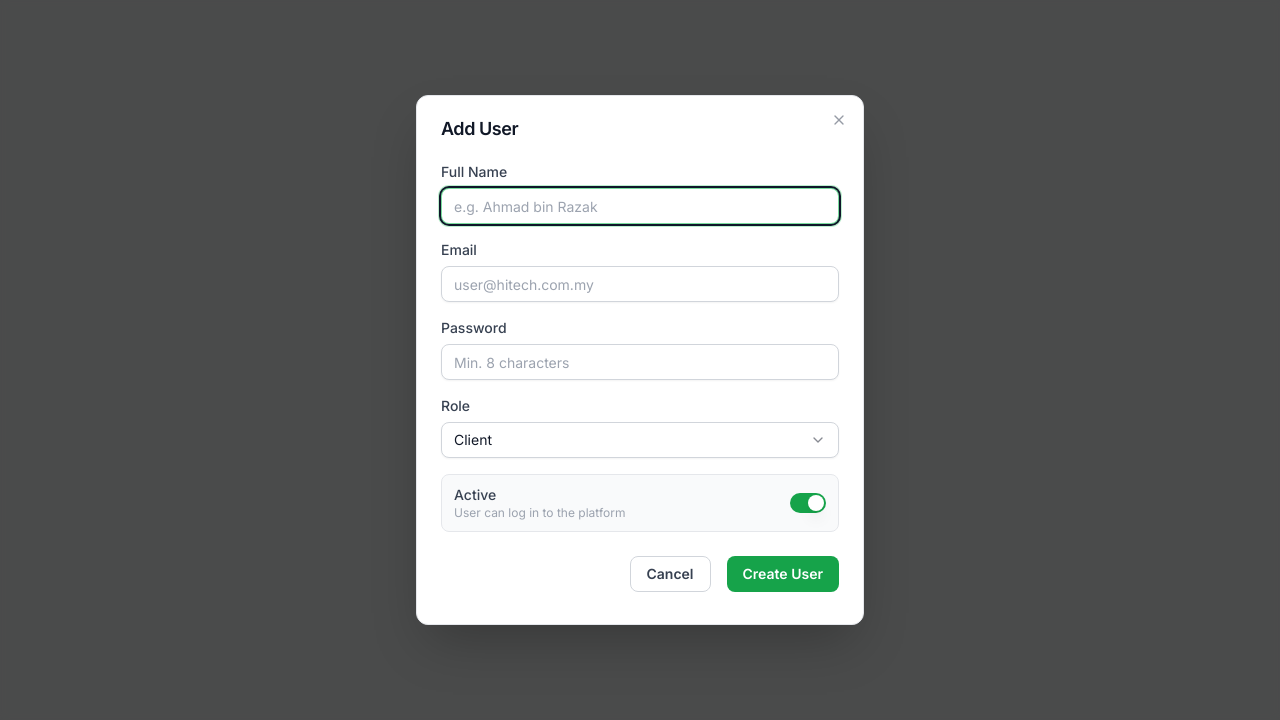
Test case: Client-side validation › shows validation error and does not submit when Full Name is empty
The image size is (1280, 720).
Click the button "Create User". click: (783, 574)
box: [726, 556, 839, 592]
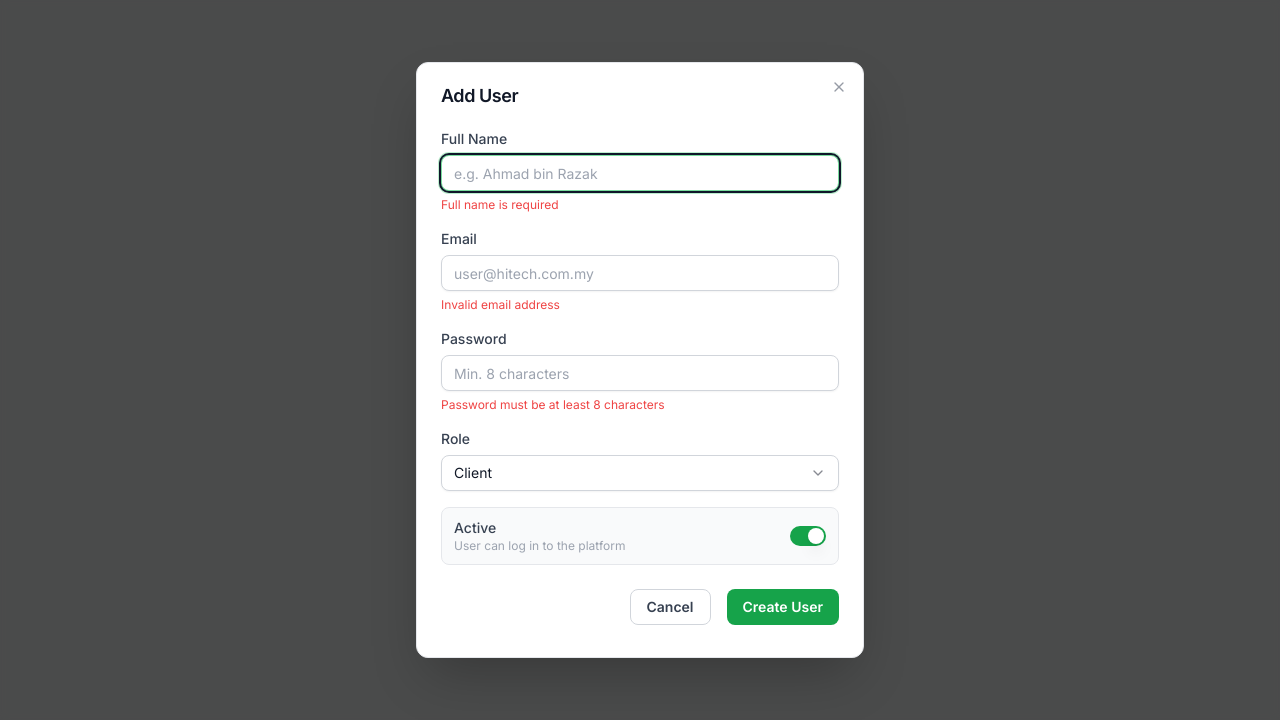
Expected: the text "Full name is required" is shown, [441, 197, 559, 212]
